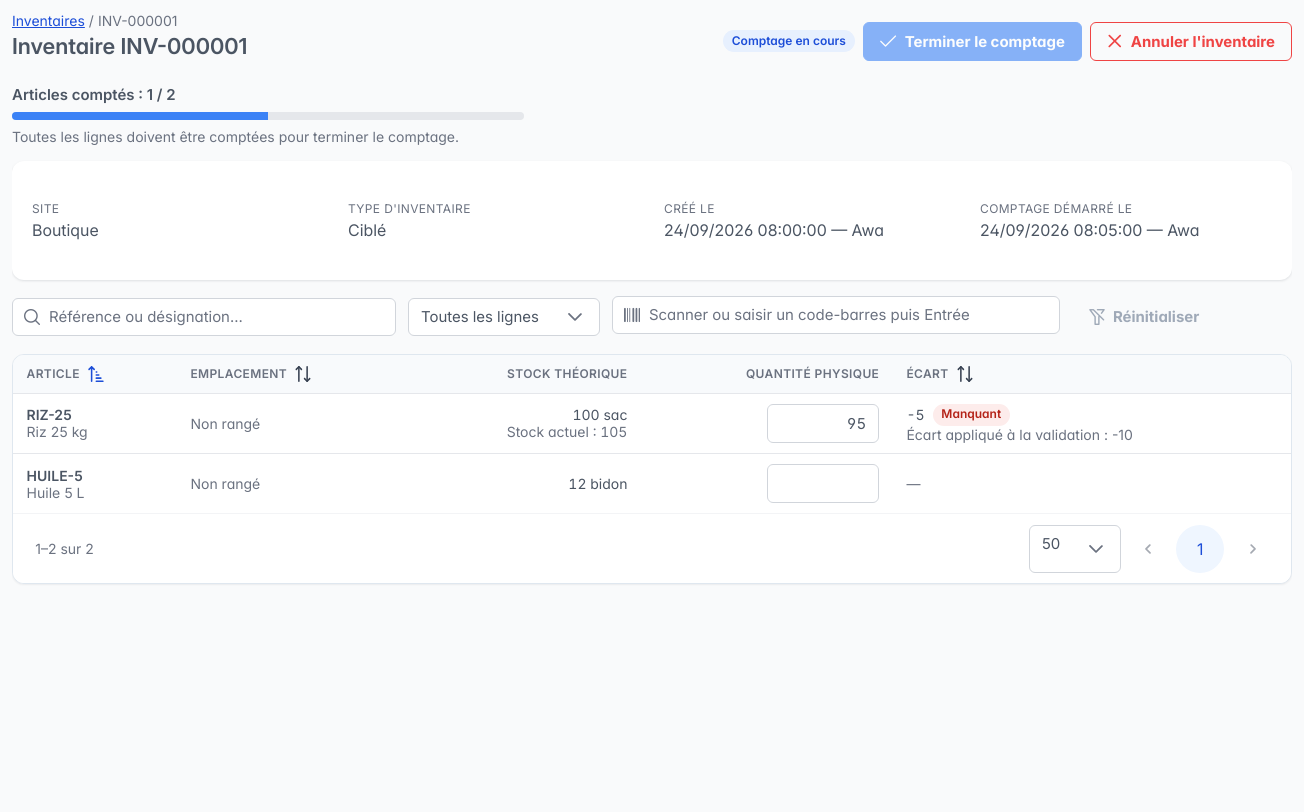
fiche inventaire › saisie invalide : message, aucun envoi ; Entrée passe à la ligne suivante
The width and height of the screenshot is (1304, 812).
Replace the text in the field named "Quantité physique de RIZ-25" with "-3": (823, 423) x1=767 y1=404 x2=879 y2=443
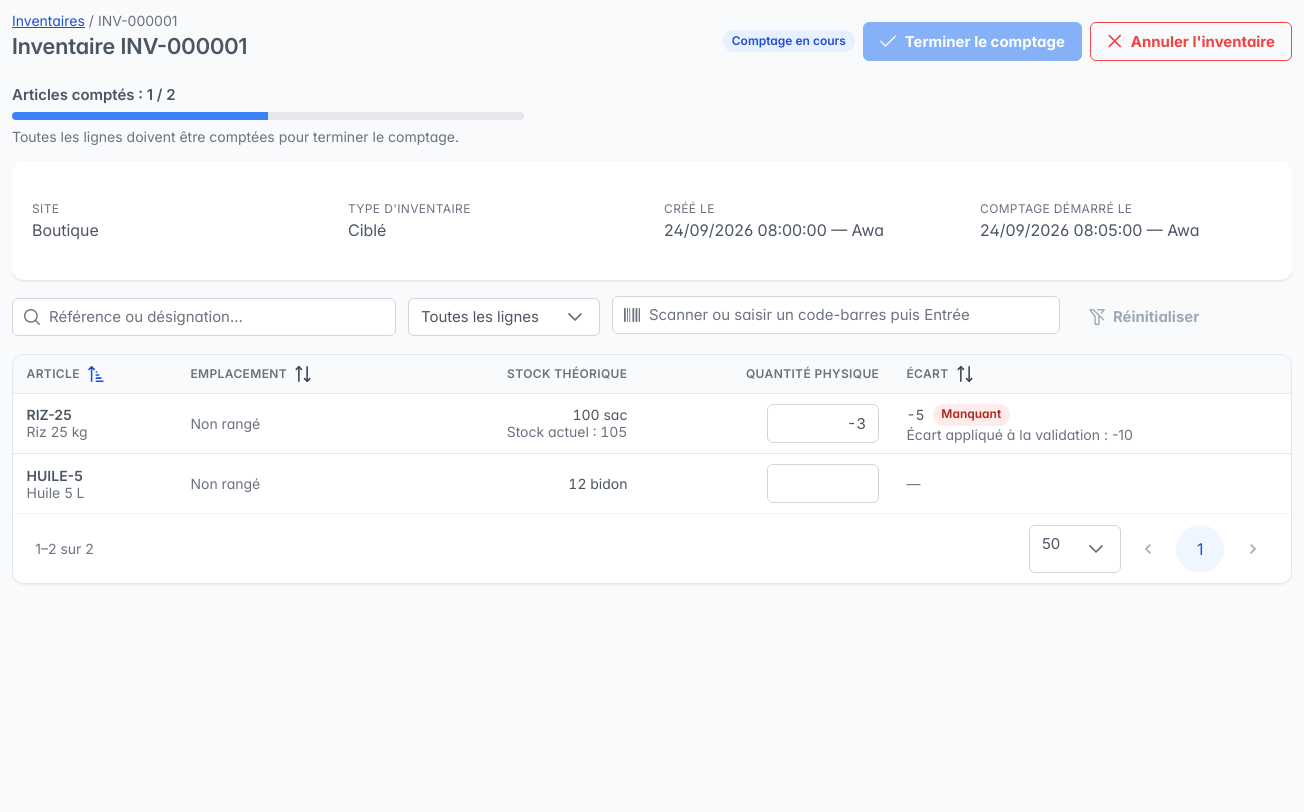
Press Enter in the field named "Quantité physique de RIZ-25", box x1=767 y1=404 x2=879 y2=443
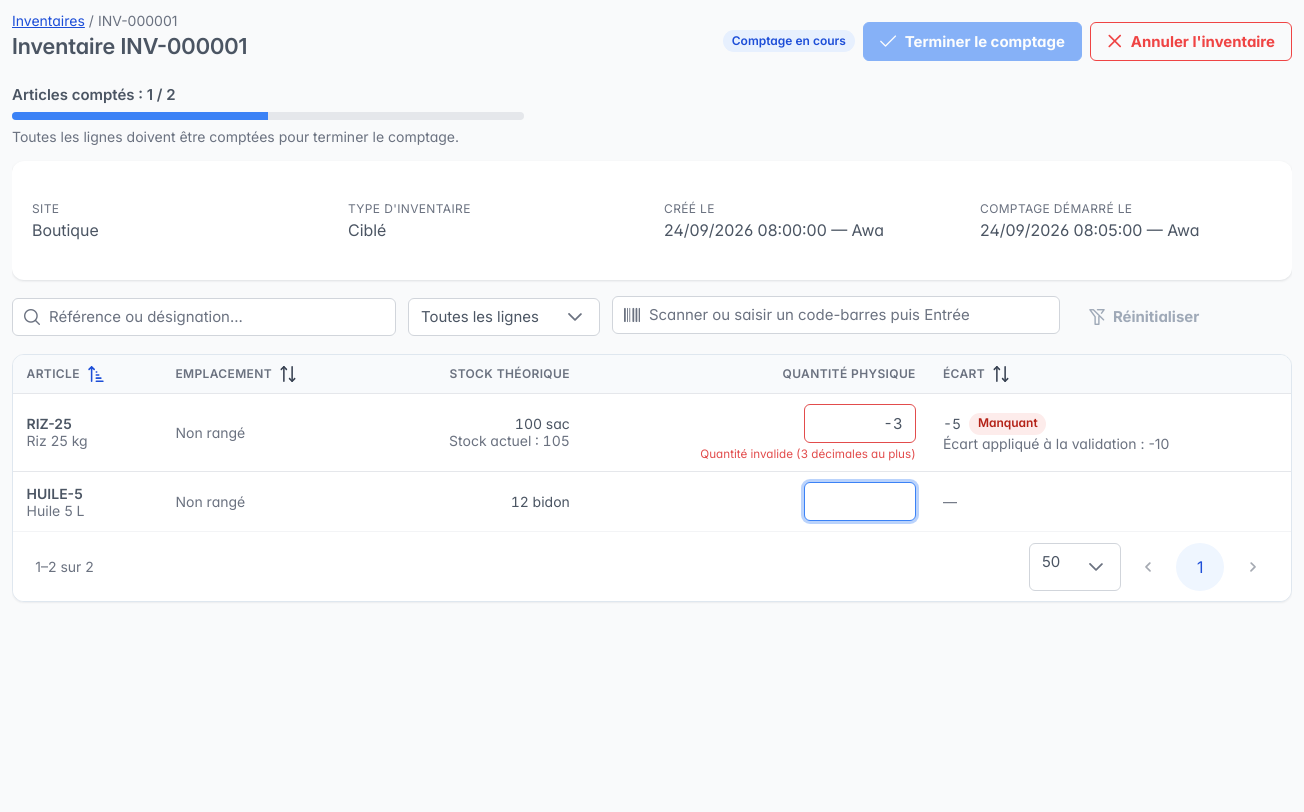
Check: the message "Quantité invalide (3 décimales au plus)" is shown, box x1=700 y1=447 x2=916 y2=461
